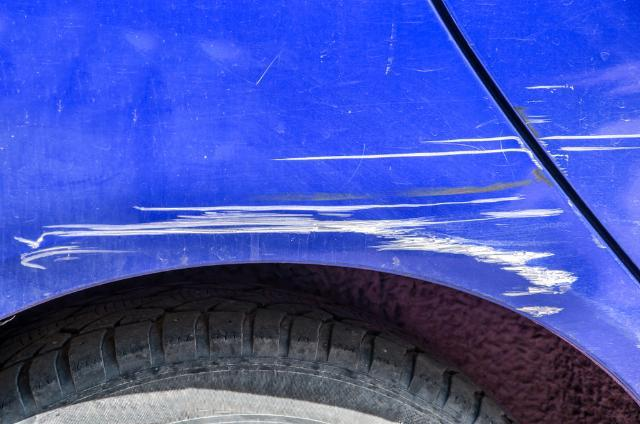rub: (15, 137, 582, 318), (516, 84, 640, 178)
